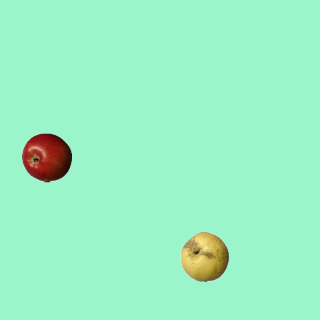Apple Braeburn: (21, 132, 71, 182)
Apple Golden 1: (179, 231, 229, 281)
